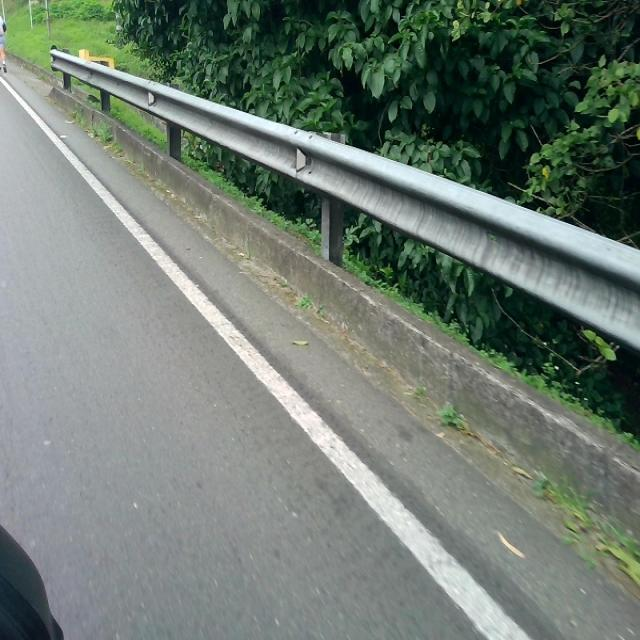DITCH: (1, 51, 639, 638), (1, 94, 639, 638)
